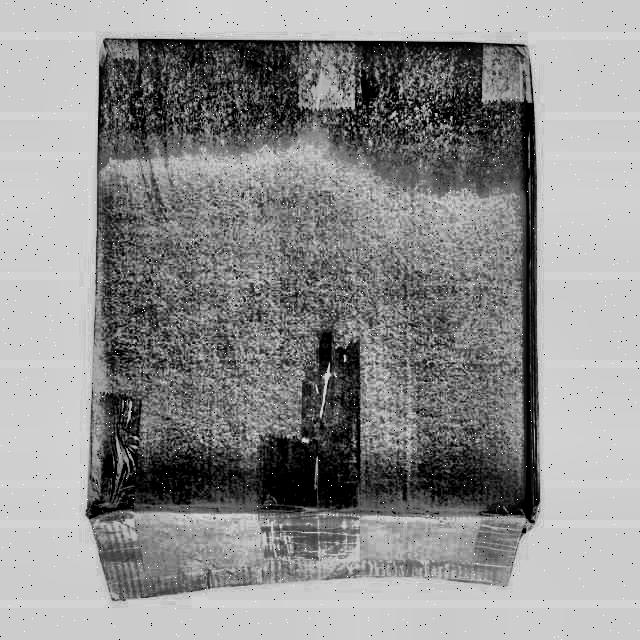box: (76, 32, 552, 617)
wet: (99, 42, 527, 191)
